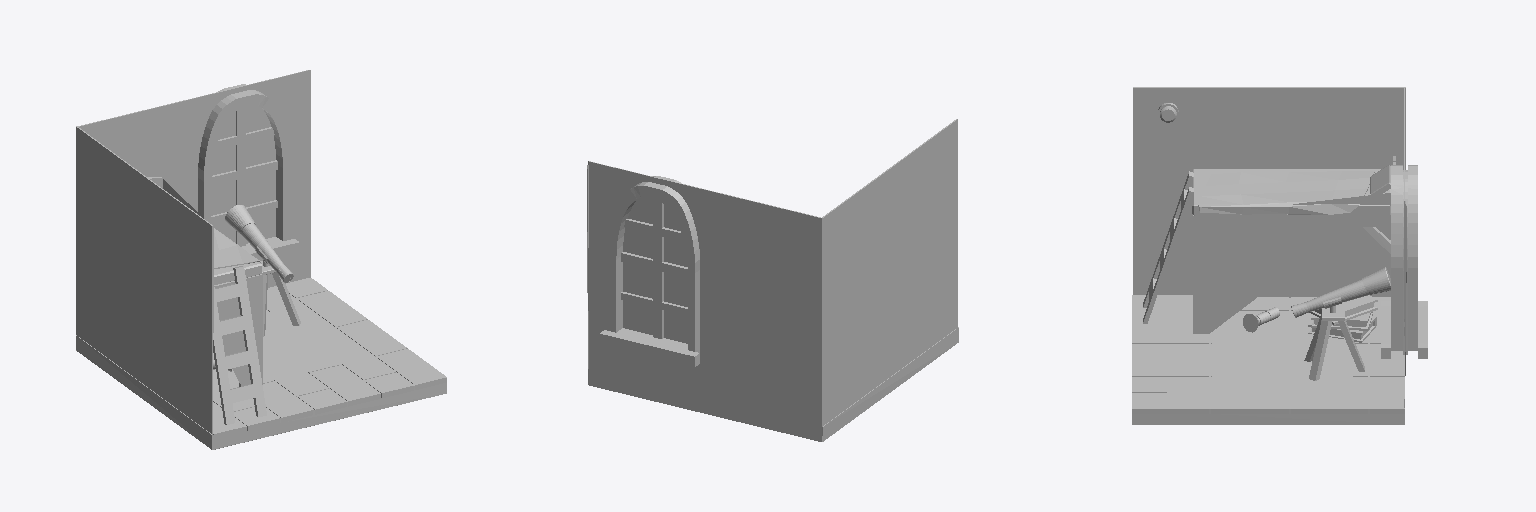
File: Bedroom Objectfile.obj
The picture shows the model from 3 angles: view 1: azimuth 30°, elevation 25°; view 2: azimuth 150°, elevation 25°; view 3: azimuth 270°, elevation 25°; orthographic projection.
Visible parts, largest first — view 1: !Room, Tiles, Rug, Window.001, ladder, Bed, Window_Rungs, Telscope, Blanket, Matress; view 2: !Room, Window.001, Window_Rungs; view 3: !Room, Bed, Tiles, Rug, Blanket, Window.001, Telscope, ladder, Matress, book_3.
Boxes of the visible parts, x1=… form: !Room: x1=76, y1=70, x2=446, y2=449; Tiles: x1=213, y1=278, x2=446, y2=438; Rug: x1=213, y1=304, x2=371, y2=393; Window.001: x1=198, y1=84, x2=299, y2=260; ladder: x1=213, y1=266, x2=266, y2=424; Bed: x1=147, y1=177, x2=262, y2=386; Window_Rungs: x1=211, y1=107, x2=277, y2=246; Telscope: x1=225, y1=205, x2=300, y2=336; Blanket: x1=214, y1=228, x2=260, y2=268; Matress: x1=214, y1=262, x2=261, y2=284; !Room: x1=587, y1=119, x2=958, y2=441; Window.001: x1=599, y1=176, x2=699, y2=366; Window_Rungs: x1=621, y1=198, x2=687, y2=338; !Room: x1=1132, y1=87, x2=1406, y2=424; Bed: x1=1193, y1=156, x2=1395, y2=333; Tiles: x1=1132, y1=295, x2=1404, y2=413; Rug: x1=1212, y1=314, x2=1352, y2=390; Blanket: x1=1198, y1=171, x2=1374, y2=214; Window.001: x1=1381, y1=165, x2=1427, y2=358; Telscope: x1=1291, y1=267, x2=1390, y2=380; ladder: x1=1143, y1=171, x2=1193, y2=323; Matress: x1=1192, y1=169, x2=1390, y2=215; book_3: x1=1309, y1=295, x2=1377, y2=324.
Size of the model in its own units: 2.44 by 2.22 by 2.67.